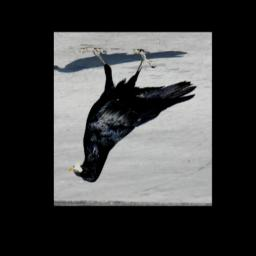Crow: (69, 46, 197, 183)
